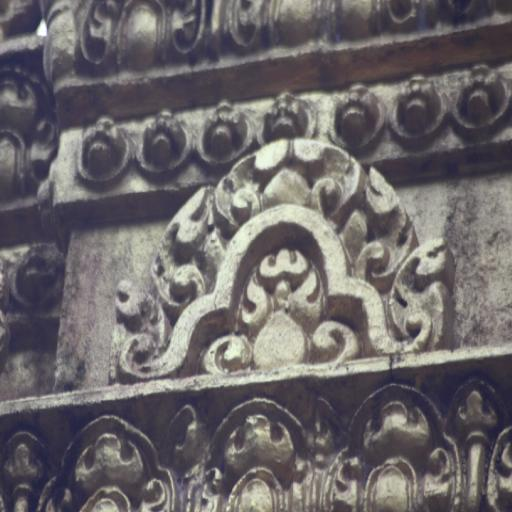hoa: (450, 70, 511, 136), (388, 79, 449, 144), (329, 83, 384, 153), (76, 118, 130, 186), (138, 112, 192, 179), (198, 96, 250, 160), (263, 88, 314, 136)
la: (117, 155, 453, 353), (331, 383, 458, 512), (190, 395, 324, 512), (44, 411, 175, 512), (81, 0, 206, 64), (0, 56, 47, 188), (457, 375, 494, 512), (0, 425, 48, 512), (170, 401, 198, 512)
